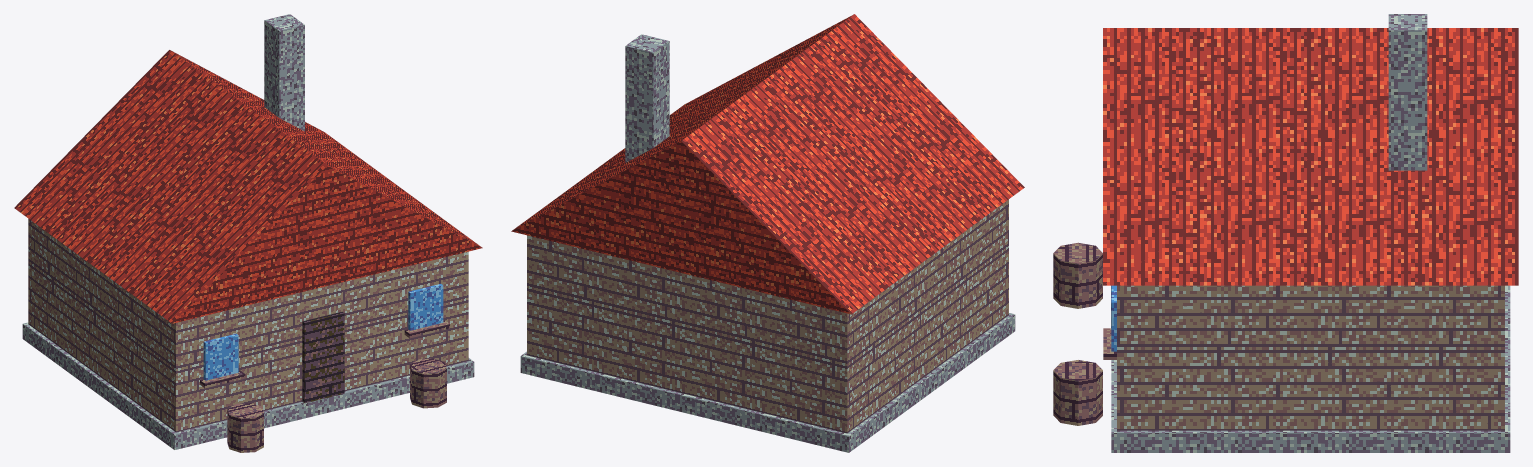
File: taberna.glb
The picture shows the model from 3 angles, left to right: view 1: azimuth 30°, elevation 25°; view 2: azimuth 150°, elevation 25°; view 3: azimuth 270°, elevation 25°; orthographic projection. The views are drawn at different scales.
Parts seen in each view (by area): view 1: taberna; view 2: taberna; view 3: taberna.
Part boxes in pixels (x1,y1,x2,y2): taberna: (14,14,482,452); taberna: (511,14,1024,452); taberna: (1053,14,1518,452).
Bounding box in the file's own units: 8.5 × 7.6 × 8.4.
6 materials, 6 textured.
